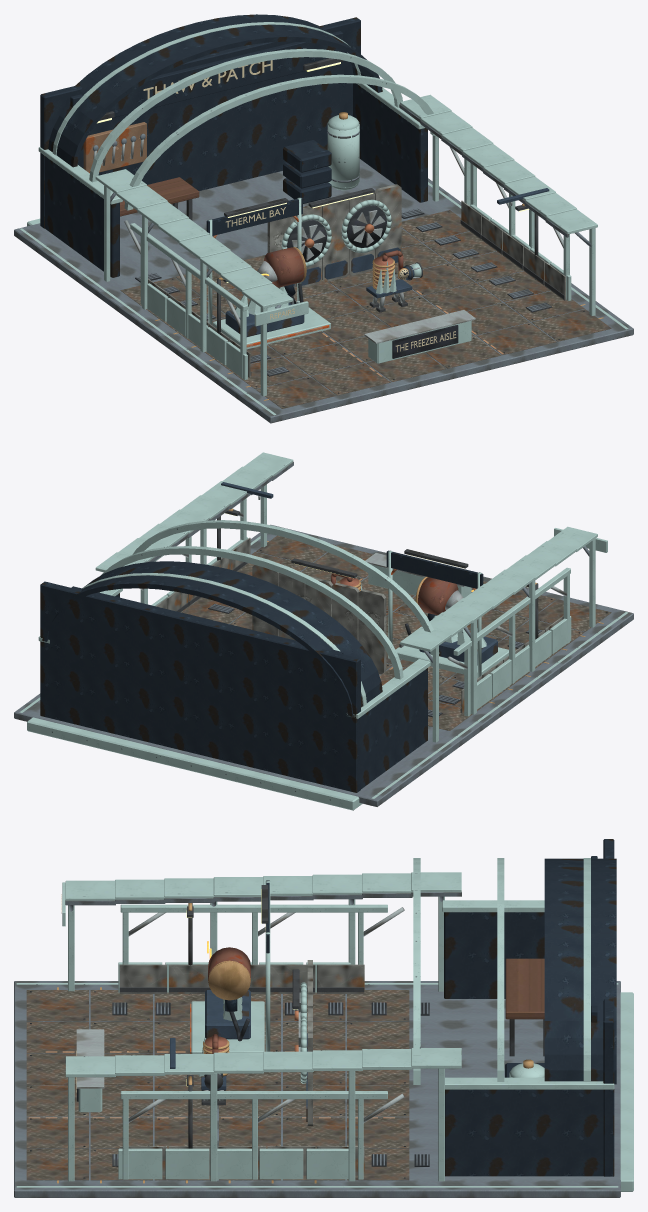
The model's file is cryo-vault-rimeholm-garage.glb.
The picture shows the model from 3 angles, top to bottom: view 1: azimuth 30°, elevation 25°; view 2: azimuth 150°, elevation 25°; view 3: azimuth 270°, elevation 25°; orthographic projection. The views are drawn at different scales.
Parts seen in each view (by area): view 1: cryo-vault-rimeholm-garage, Thaw & Patch drive; view 2: cryo-vault-rimeholm-garage; view 3: cryo-vault-rimeholm-garage.
Boxes of the visible parts, x1=… form: cryo-vault-rimeholm-garage: x1=14, y1=14, x2=633, y2=423; Thaw & Patch drive: x1=372, y1=250, x2=408, y2=293; cryo-vault-rimeholm-garage: x1=14, y1=452, x2=633, y2=810; cryo-vault-rimeholm-garage: x1=14, y1=839, x2=633, y2=1197.
Size of the model in its own units: 16.9 by 7.77 by 21.09.
Materials: 21 (18 with a texture image).
